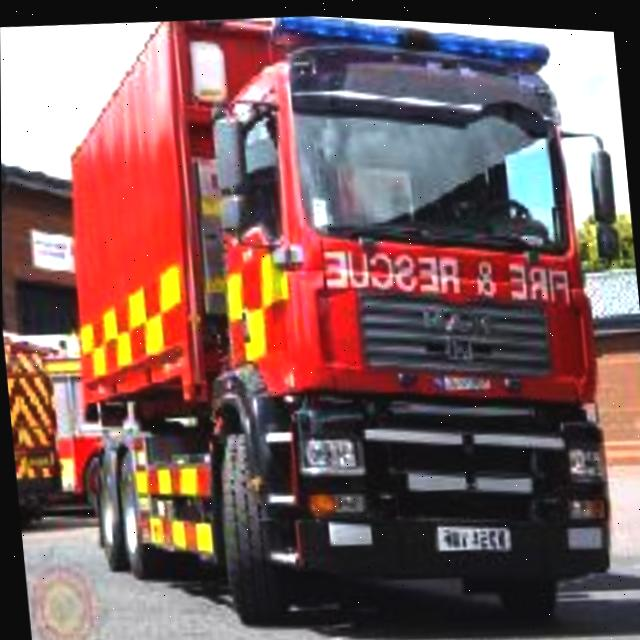emergency: (47, 2, 627, 640)
